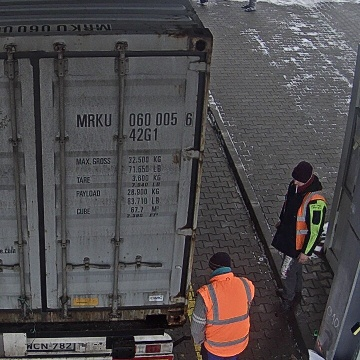serial_id: (76, 112, 192, 127)
